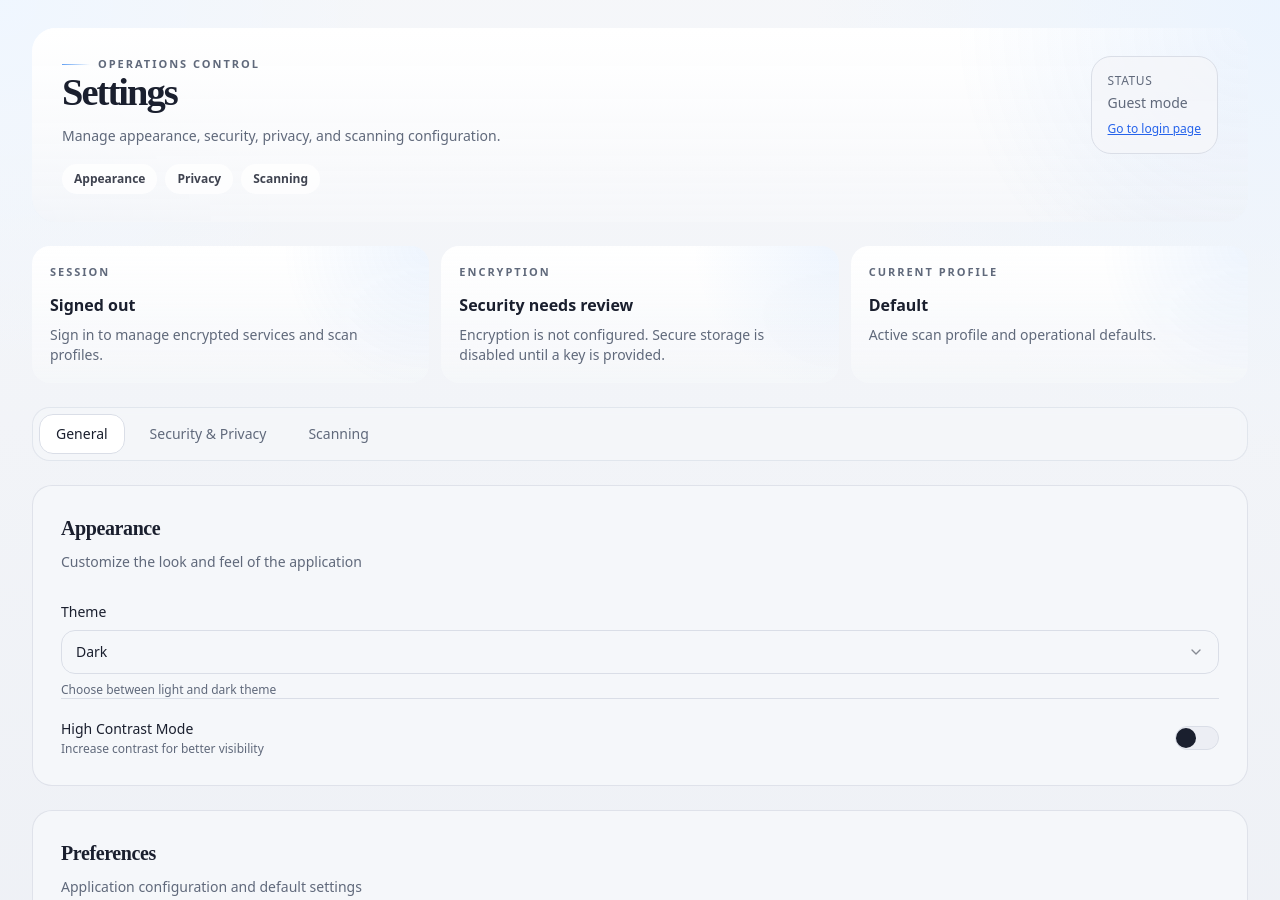
Test case: Settings encryption status panel › renders ready state when encryption is configured
The width and height of the screenshot is (1280, 900).
Click the button "Security & Privacy" at (208,434), box [133, 414, 283, 454]
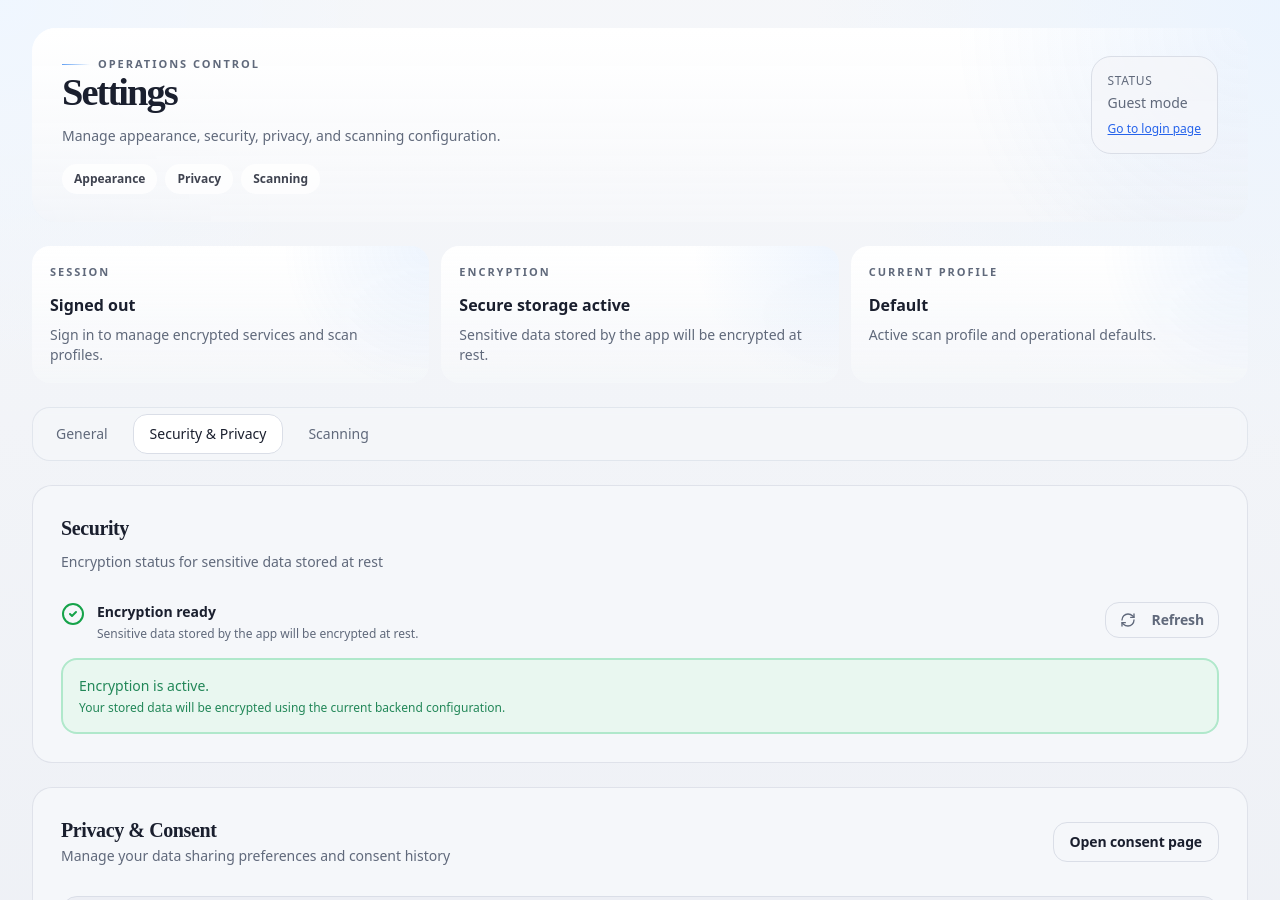
Expected: the text "Encryption ready" is shown, [97, 602, 216, 621]
Expected: the text "Encryption is active." is shown, [79, 676, 209, 695]
